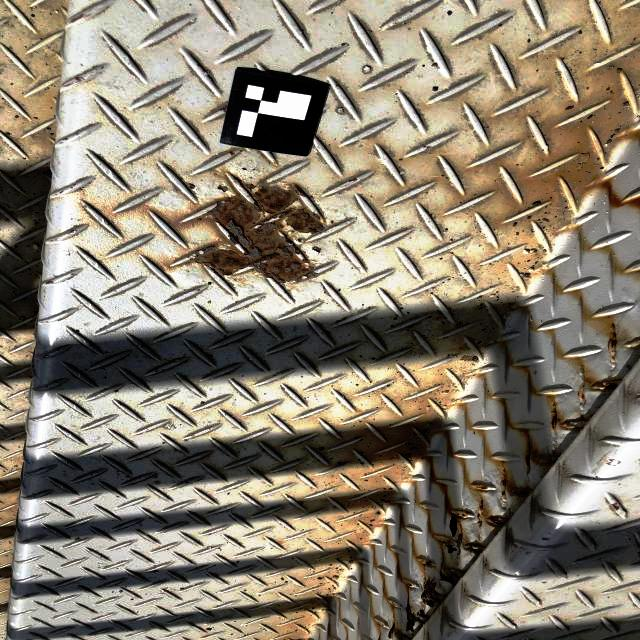Corrosion: (172, 180, 326, 283), (405, 546, 446, 633), (438, 493, 470, 557), (550, 399, 564, 431), (438, 564, 457, 586), (387, 602, 396, 640), (476, 497, 485, 527), (606, 329, 617, 350), (486, 517, 506, 527), (512, 488, 529, 497), (310, 245, 324, 255), (216, 184, 230, 194), (500, 468, 507, 487), (474, 485, 489, 493), (602, 384, 616, 389), (524, 455, 530, 466), (220, 104, 228, 112), (348, 178, 359, 182), (229, 151, 237, 156), (542, 537, 550, 541)
